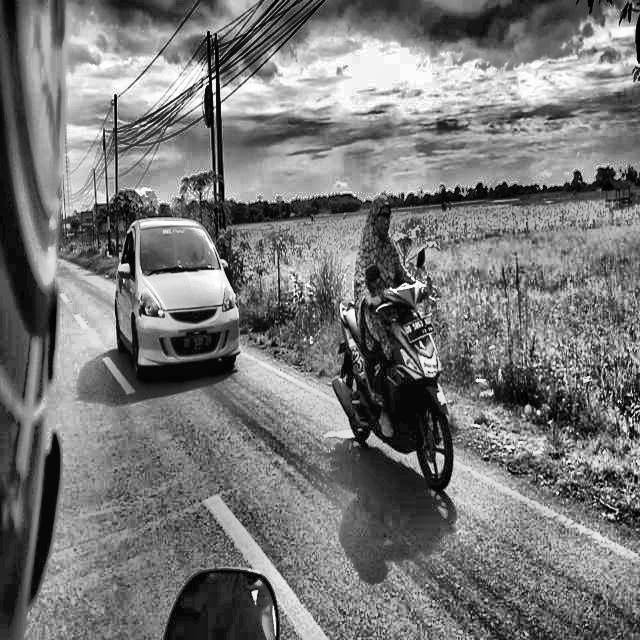motorcycle: (307, 262, 490, 495)
